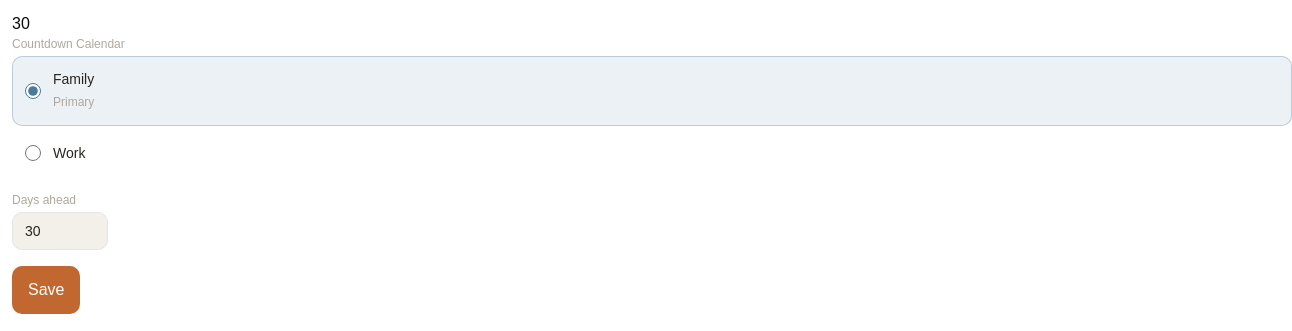
Test: CountdownsSettings › does not overwrite an in-progress edit when the config query refreshes
Replace the text in the number field showing "30" with "99": (60, 231) x1=12 y1=212 x2=108 y2=250
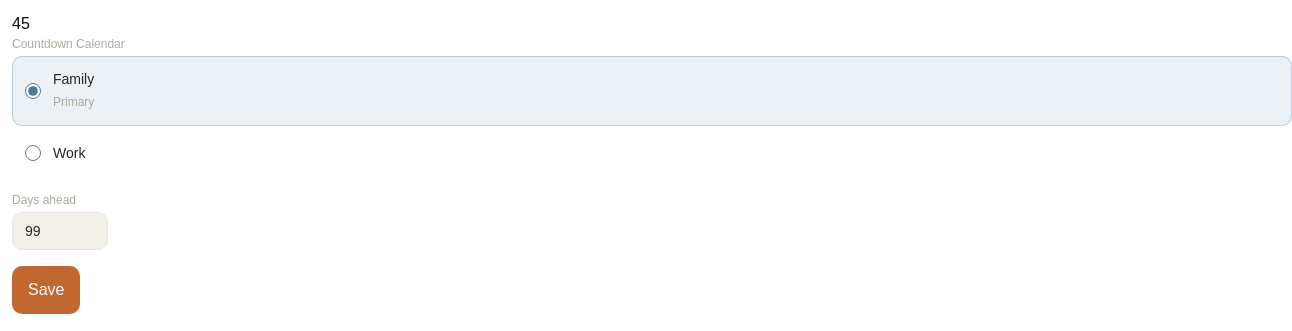
Result: the text with test id "probe" reads "45" at x1=12 y1=15 x2=30 y2=32
